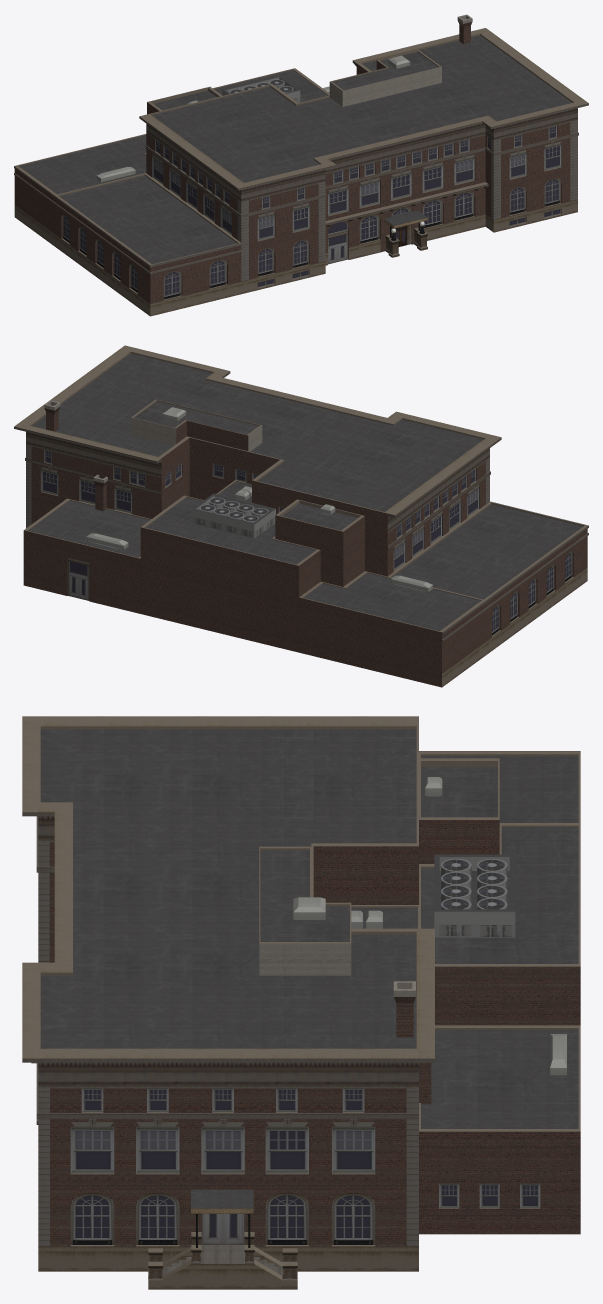
The model's file is 317_washington_street.glb.
3 views of the same model, one above another, from view 1: azimuth 30°, elevation 25°; view 2: azimuth 150°, elevation 25°; view 3: azimuth 270°, elevation 25° (orthographic). The views are drawn at different scales.
Visible parts, largest first — view 1: Object_2; view 2: Object_2; view 3: Object_2.
Part boxes in pixels (left/top/right/bottom): Object_2: left=14, top=14, right=588, bottom=316; Object_2: left=14, top=345, right=588, bottom=687; Object_2: left=22, top=716, right=580, bottom=1289.
Size of the model in its own units: 6385 by 1807 by 3450.
Materials: 1 (1 with a texture image).
